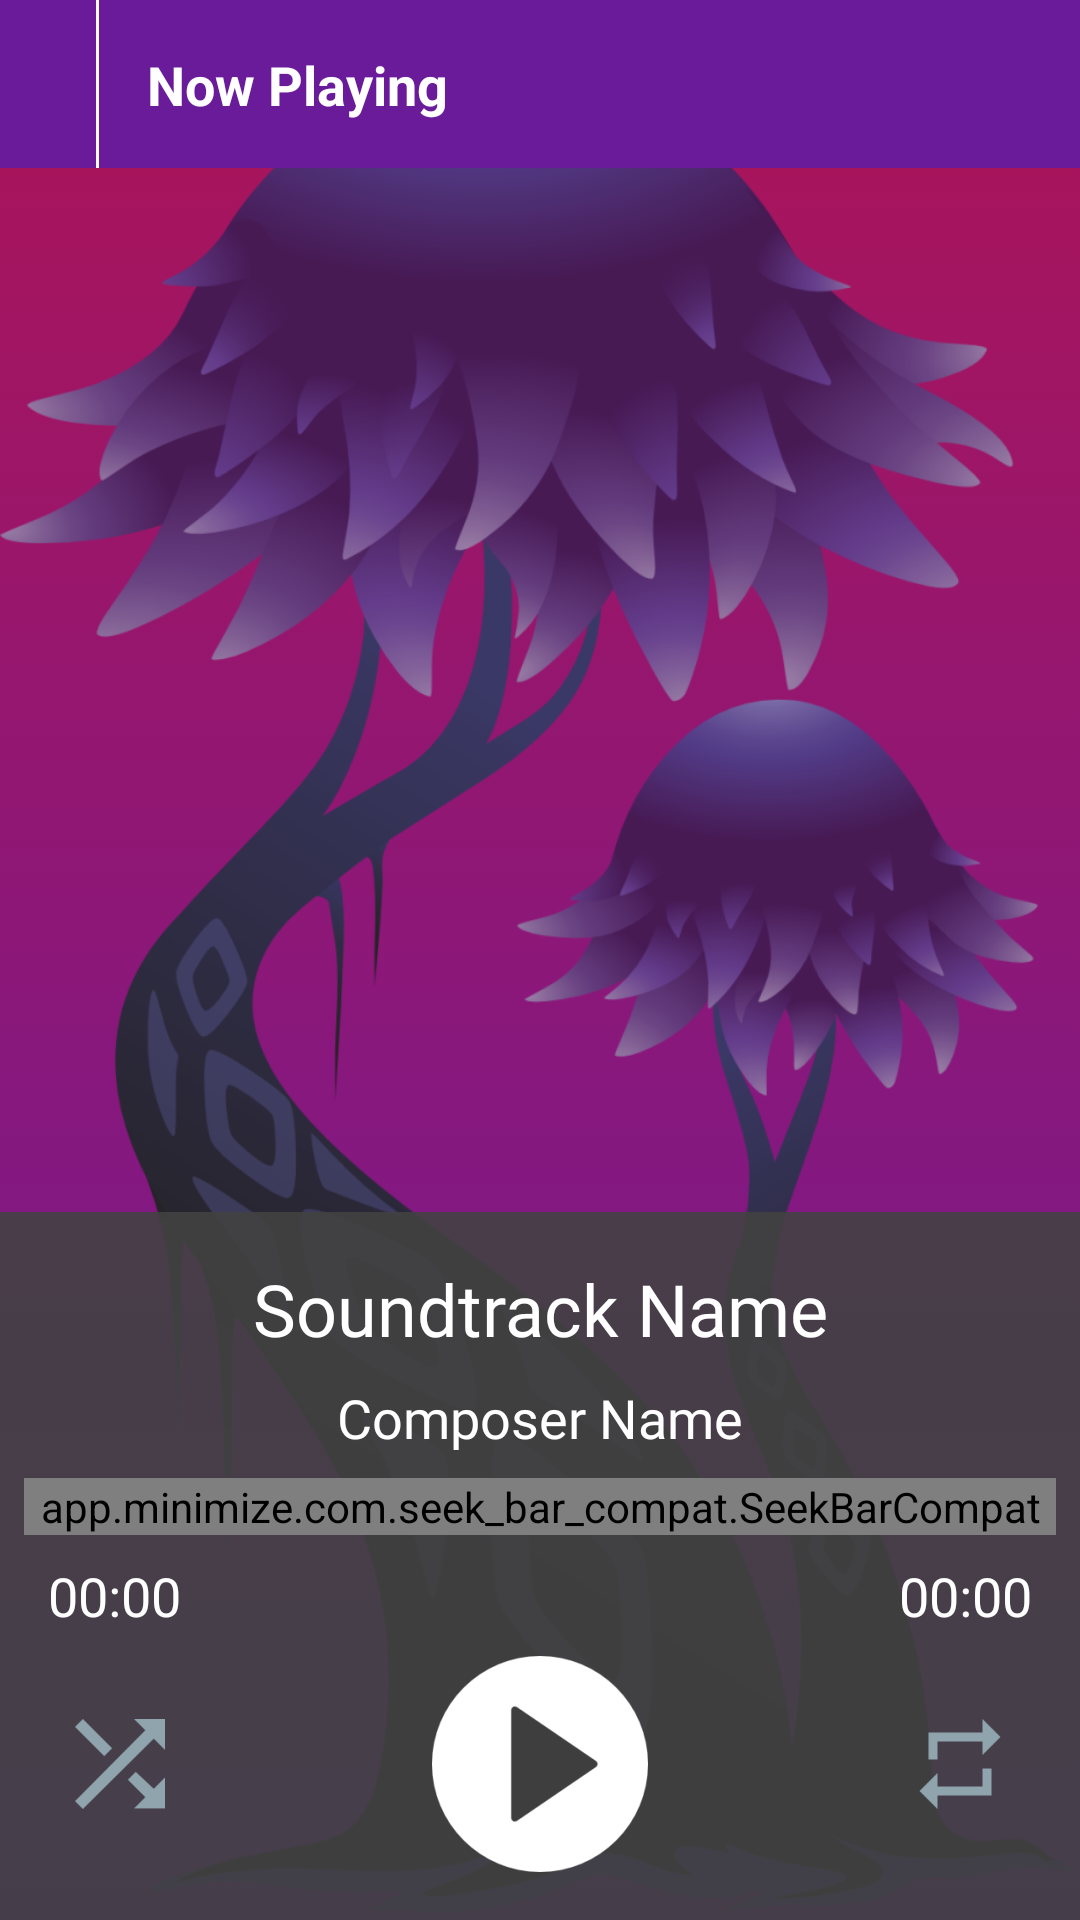

Named icons in this screenshot (1080*1920) and their centers, [x,y]:
play: [540,1764]
repeat off: [960,1764]
shuffle off: [120,1764]
